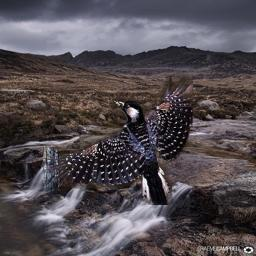Woodpecker: (43, 76, 193, 205)
